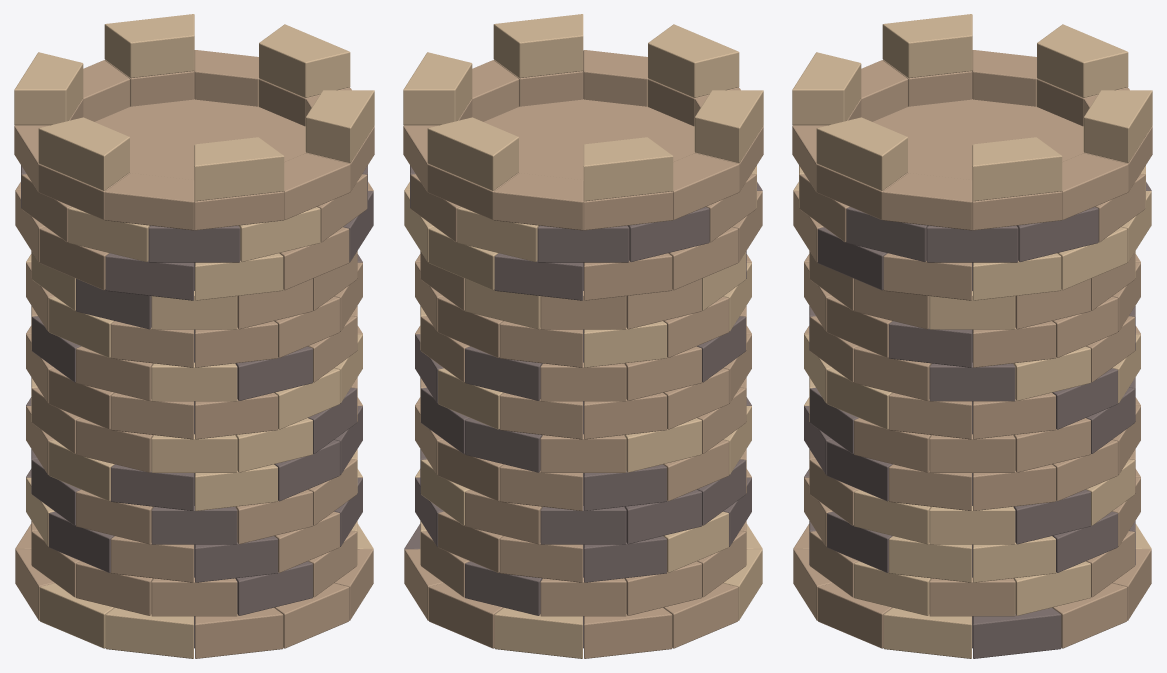
The model's file is ashwick-rampart-watchtower.meshopt.glb.
3 views of the same model, side by side, from view 1: azimuth 30°, elevation 25°; view 2: azimuth 150°, elevation 25°; view 3: azimuth 270°, elevation 25° (orthographic).
Visible parts, largest first — view 1: Tower masonry.004, Tower masonry.005, Tower masonry.003, Merlons.001, Breastwork.001, Watch platform.001; view 2: Tower masonry.004, Tower masonry.003, Tower masonry.005, Merlons.001, Breastwork.001, Watch platform.001; view 3: Tower masonry.004, Tower masonry.005, Tower masonry.003, Merlons.001, Breastwork.001, Watch platform.001.
Part boxes in pixels (x1,y1,x2,y2): Tower masonry.004: (15, 174, 373, 658); Tower masonry.005: (26, 207, 373, 658); Tower masonry.003: (21, 165, 373, 615); Merlons.001: (14, 14, 374, 201); Breastwork.001: (14, 50, 374, 230); Watch platform.001: (95, 99, 305, 179); Tower masonry.004: (404, 174, 762, 658); Tower masonry.003: (404, 165, 762, 615); Tower masonry.005: (404, 165, 762, 658); Merlons.001: (403, 14, 763, 201); Breastwork.001: (403, 50, 763, 230); Watch platform.001: (484, 99, 694, 180); Tower masonry.004: (793, 174, 1151, 648); Tower masonry.005: (793, 165, 1151, 658); Tower masonry.003: (804, 182, 1151, 658); Merlons.001: (792, 14, 1152, 201); Breastwork.001: (792, 50, 1152, 230); Watch platform.001: (873, 99, 1083, 179).
Bounding box in the file's own units: 3.38 × 5.1 × 3.38.
